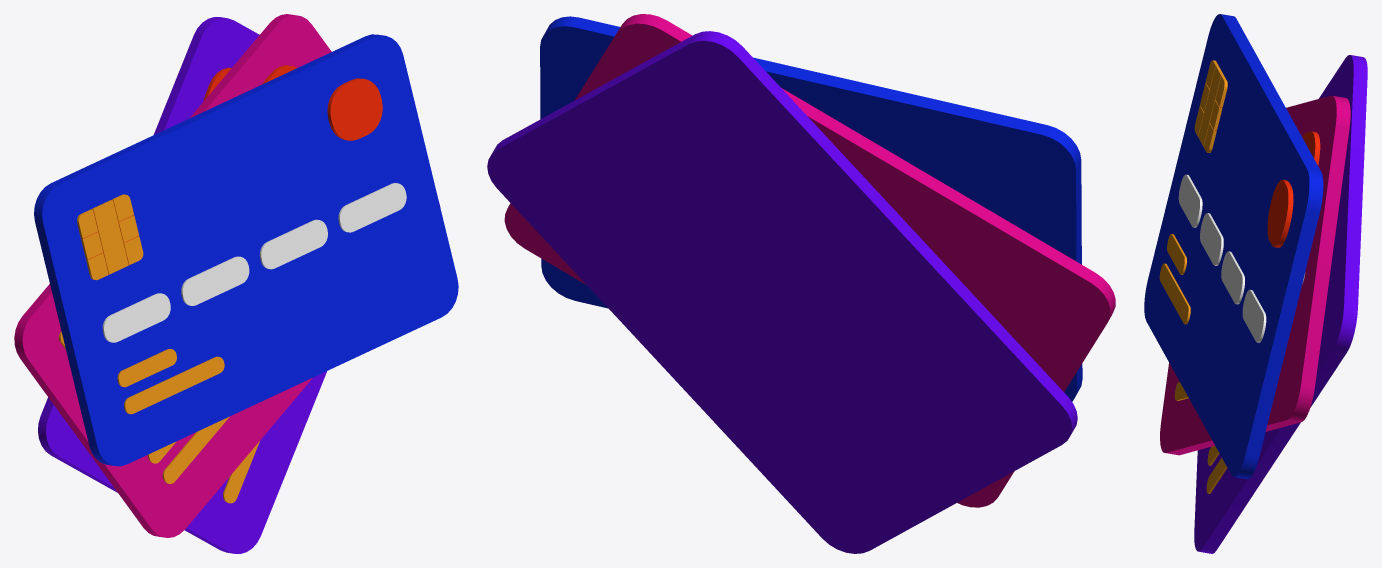
File: credit-card-3d-animated-icon-887347964510.glb
The picture shows the model from 3 angles, left to right: view 1: azimuth 30°, elevation 25°; view 2: azimuth 150°, elevation 25°; view 3: azimuth 270°, elevation 25°; orthographic projection. The views are drawn at different scales.
Parts seen in each view (by area): view 1: Plane, Plane.007, Plane.014, Plane.002, Plane.001, Plane.006, Plane.003, Plane.010, Plane.004, Plane.017; view 2: Plane.014, Plane, Plane.007; view 3: Plane, Plane.014, Plane.007, Plane.002, Plane.001, Plane.006, Plane.003, Plane.004, Plane.013, Plane.017.
Boxes of the visible parts, x1,y1,x2,y2 form: Plane: (34, 34, 458, 466); Plane.007: (14, 14, 440, 537); Plane.014: (38, 17, 326, 553); Plane.002: (102, 183, 406, 342); Plane.001: (77, 194, 143, 280); Plane.006: (327, 78, 382, 140); Plane.003: (124, 356, 224, 414); Plane.010: (162, 416, 229, 483); Plane.004: (117, 349, 176, 387); Plane.017: (222, 440, 260, 503); Plane.014: (487, 31, 1077, 553); Plane: (540, 16, 1082, 401); Plane.007: (504, 14, 1115, 507); Plane: (1144, 14, 1323, 479); Plane.014: (1194, 55, 1367, 553); Plane.007: (1160, 95, 1350, 455); Plane.002: (1178, 174, 1266, 342); Plane.001: (1194, 60, 1227, 152); Plane.006: (1267, 180, 1293, 247); Plane.003: (1159, 263, 1190, 324); Plane.004: (1167, 234, 1186, 274); Plane.013: (1302, 131, 1320, 165); Plane.017: (1206, 457, 1227, 493).
Bounding box in the file's own units: 3.07 × 2.99 × 1.17.
